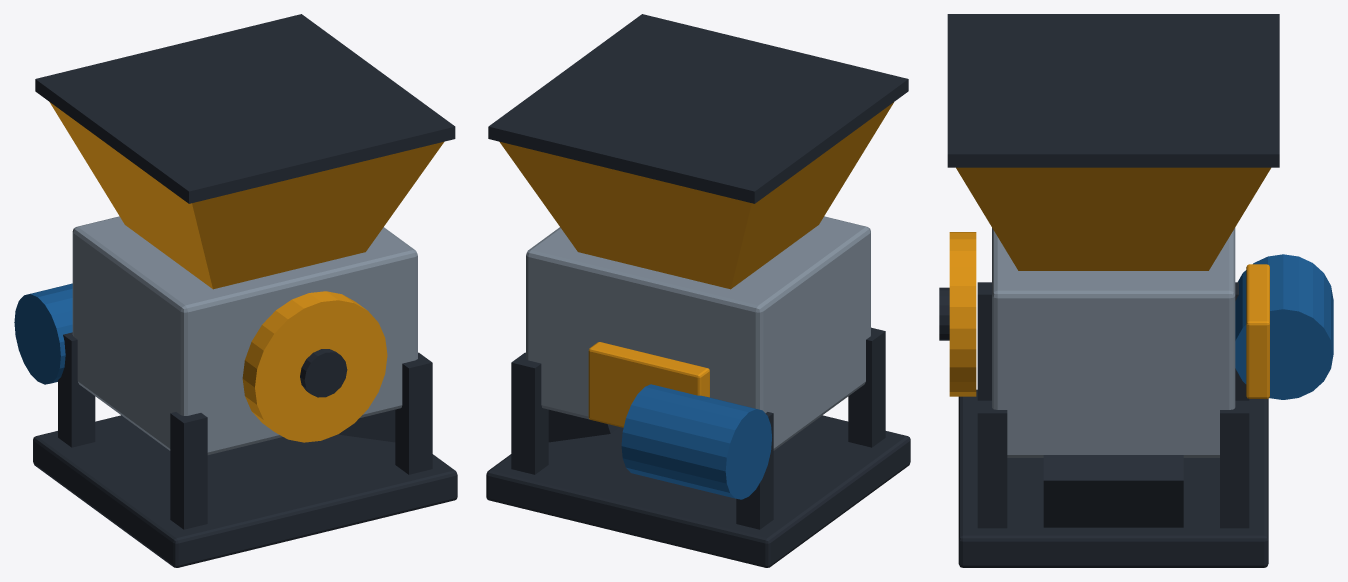
File: crusher_cr101.glb
3 renders of one model, left to right at view 1: azimuth 30°, elevation 25°; view 2: azimuth 150°, elevation 25°; view 3: azimuth 270°, elevation 25°, orthographic. The views are drawn at different scales.
Parts seen in each view (by area): view 1: CR101_HopperRim, CR101_Chamber, CR101_BaseSkid, CR101_Hopper, CR101_Flywheel, CR101_DriveMotor, CR101_Leg_1, CR101_Leg_2, CR101_Leg_3, CR101_FlywheelHub, CR101_DischargeChute; view 2: CR101_Chamber, CR101_HopperRim, CR101_BaseSkid, CR101_Hopper, CR101_DriveMotor, CR101_BeltGuard, CR101_Leg_4, CR101_Leg_1, CR101_Leg_3, CR101_DischargeChute; view 3: CR101_HopperRim, CR101_Chamber, CR101_Hopper, CR101_BaseSkid, CR101_DischargeChute, CR101_DriveMotor, CR101_Flywheel, CR101_Leg_2, CR101_Leg_4, CR101_BeltGuard, CR101_Leg_1, CR101_FlywheelHub.
Boxes of the visible parts, box(x1,y1,x2,y2) form: CR101_HopperRim: box(35, 14, 455, 203); CR101_Chamber: box(72, 216, 417, 454); CR101_BaseSkid: box(33, 415, 457, 567); CR101_Hopper: box(49, 102, 443, 289); CR101_Flywheel: box(242, 291, 387, 442); CR101_DriveMotor: box(14, 283, 72, 384); CR101_Leg_1: box(170, 412, 207, 529); CR101_Leg_2: box(395, 352, 432, 474); CR101_Leg_3: box(58, 332, 95, 447); CR101_FlywheelHub: box(300, 349, 347, 397); CR101_DischargeChute: box(338, 409, 395, 442); CR101_Chamber: box(526, 216, 870, 450); CR101_HopperRim: box(488, 14, 908, 203); CR101_BaseSkid: box(486, 415, 910, 567); CR101_Hopper: box(499, 102, 893, 289); CR101_DriveMotor: box(621, 384, 771, 499); CR101_BeltGuard: box(588, 342, 709, 427); CR101_Leg_4: box(511, 352, 548, 474); CR101_Leg_1: box(848, 327, 885, 447); CR101_Leg_3: box(736, 412, 773, 529); CR101_DischargeChute: box(548, 409, 619, 442); CR101_HopperRim: box(947, 14, 1279, 167); CR101_Chamber: box(992, 228, 1235, 457); CR101_Hopper: box(956, 167, 1270, 270); CR101_BaseSkid: box(958, 389, 1268, 567); CR101_DischargeChute: box(1043, 455, 1183, 527); CR101_DriveMotor: box(1235, 254, 1333, 399); CR101_Flywheel: box(949, 232, 976, 396); CR101_Leg_2: box(977, 400, 1007, 528); CR101_Leg_4: box(1220, 400, 1249, 528); CR101_BeltGuard: box(1246, 264, 1269, 398); CR101_Leg_1: box(977, 282, 991, 400); CR101_FlywheelHub: box(939, 287, 949, 340).
Size of the model in its own units: 2.43 by 3.07 by 2.67.
